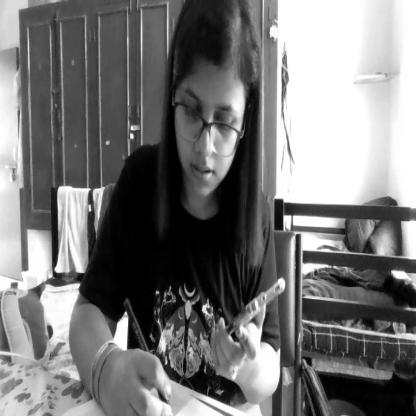Normal: (168, 0, 255, 213)
